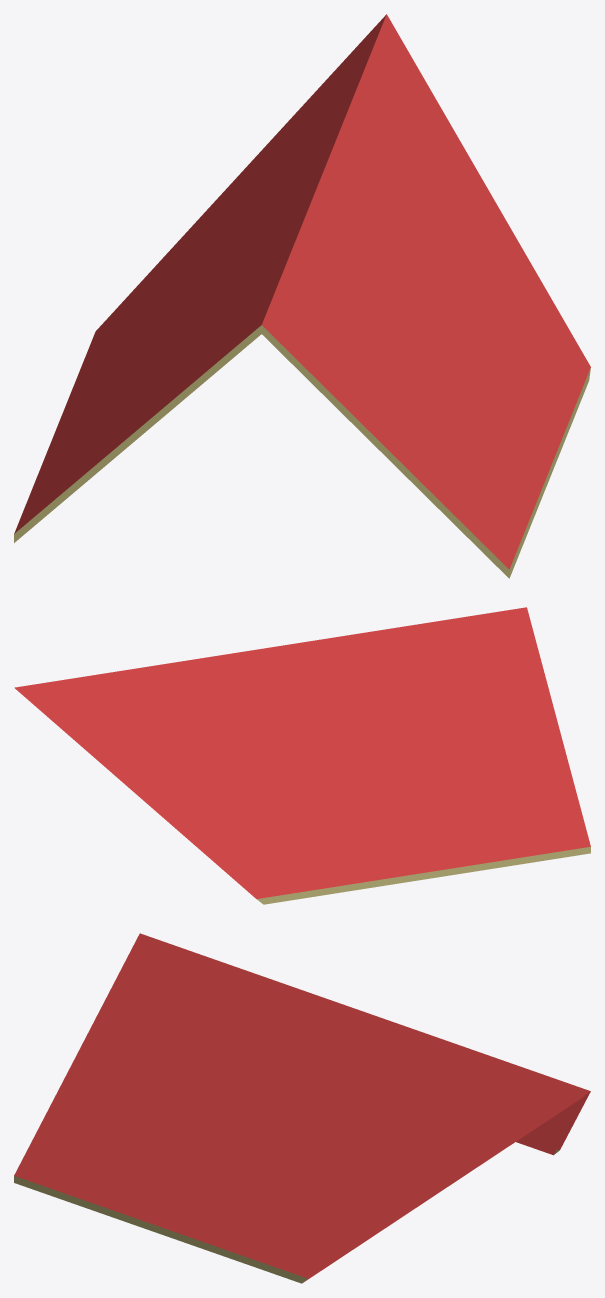
3 views of the same model, one above another, from view 1: azimuth 30°, elevation 25°; view 2: azimuth 150°, elevation 25°; view 3: azimuth 270°, elevation 25° (orthographic). The views are drawn at different scales.
Bounding box in the file's own units: 6.93 × 7.3 × 2.59.
